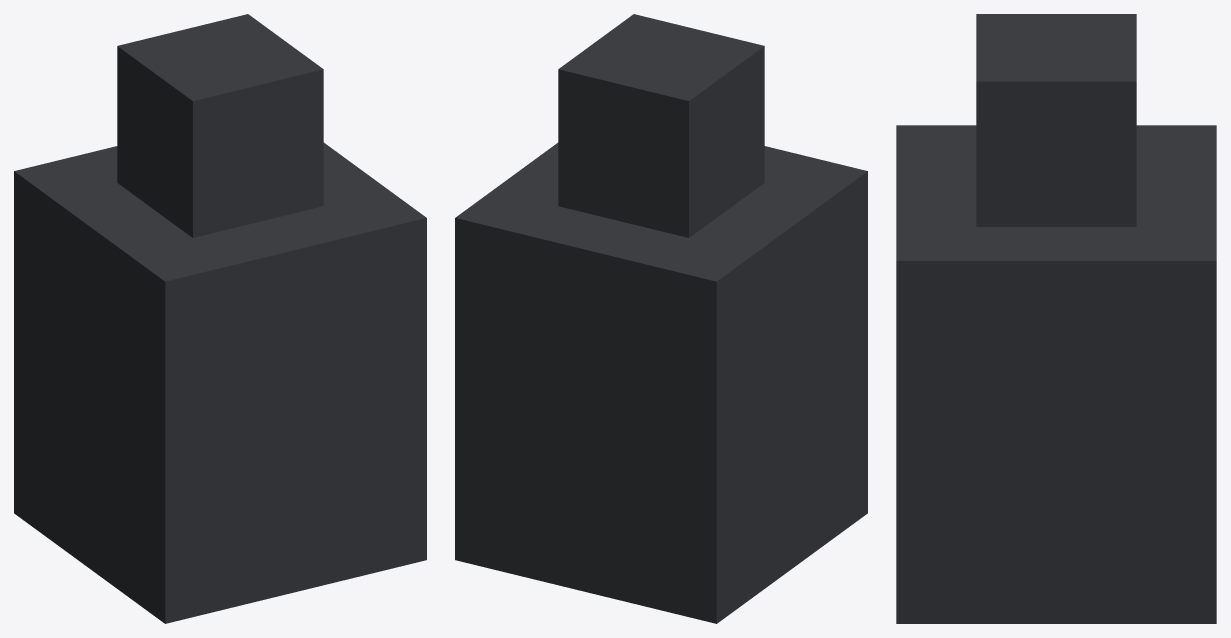
Rendered from Hip016.fbx.
The picture shows the model from 3 angles, left to right: view 1: azimuth 30°, elevation 25°; view 2: azimuth 150°, elevation 25°; view 3: azimuth 270°, elevation 25°; orthographic projection. The views are drawn at different scales.
Visible parts, largest first — view 1: Hip016; view 2: Hip016; view 3: Hip016.
Part boxes in pixels (x1,y1,x2,y2): Hip016: (14,14,426,623); Hip016: (455,14,867,623); Hip016: (896,14,1216,623).
Size of the model in its own units: 4 by 7 by 4.
